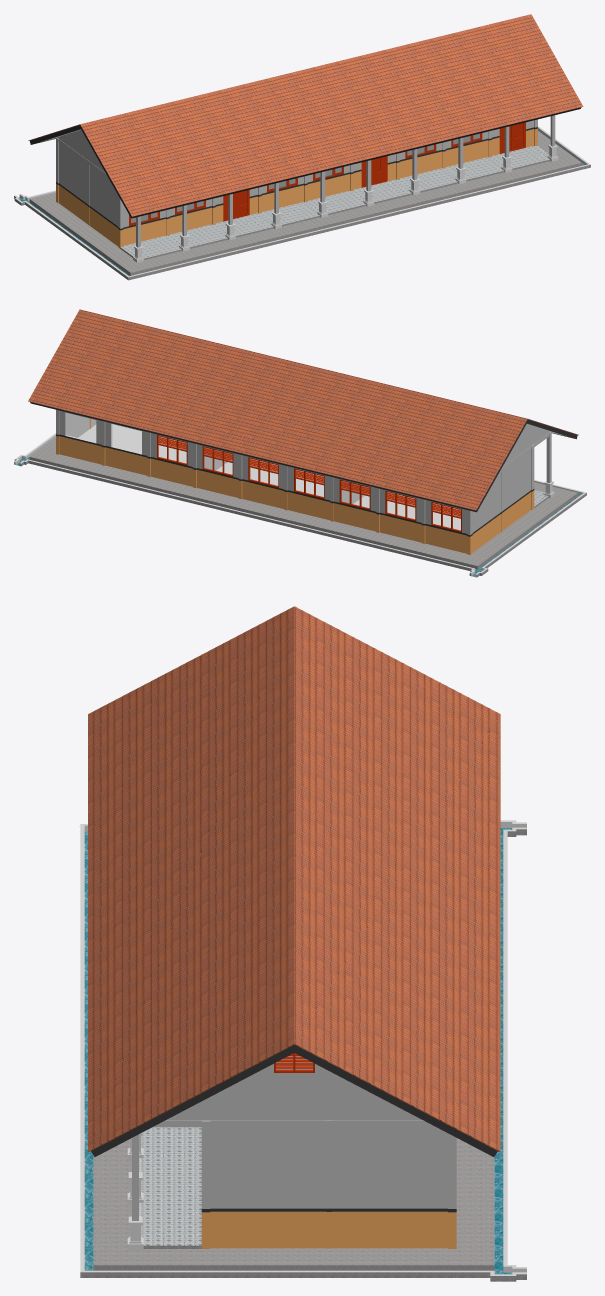
Rendered from Sekolah.fbx.
The picture shows the model from 3 angles, top to bottom: view 1: azimuth 30°, elevation 25°; view 2: azimuth 150°, elevation 25°; view 3: azimuth 270°, elevation 25°; orthographic projection. The views are drawn at different scales.
Visible parts, largest first — view 1: _G-Object (Loose Mesh); view 2: _G-Object (Loose Mesh), G-Object.263, G-Object.202, G-Object.118; view 3: _G-Object (Loose Mesh), G-Object.071, G-Object.062, G-Object.073.
Boxes of the visible parts, bbox=[...] form: _G-Object (Loose Mesh): bbox=[14, 14, 590, 280]; _G-Object (Loose Mesh): bbox=[14, 309, 586, 577]; G-Object.263: bbox=[339, 479, 370, 510]; G-Object.202: bbox=[385, 490, 416, 521]; G-Object.118: bbox=[202, 446, 233, 476]; _G-Object (Loose Mesh): bbox=[80, 606, 526, 1281]; G-Object.071: bbox=[153, 1120, 435, 1127]; G-Object.062: bbox=[201, 1120, 210, 1245]; G-Object.073: bbox=[448, 1133, 456, 1245].
Size of the model in its own units: 3064 by 718 by 1276.
Materials: 10 (4 with a texture image).
